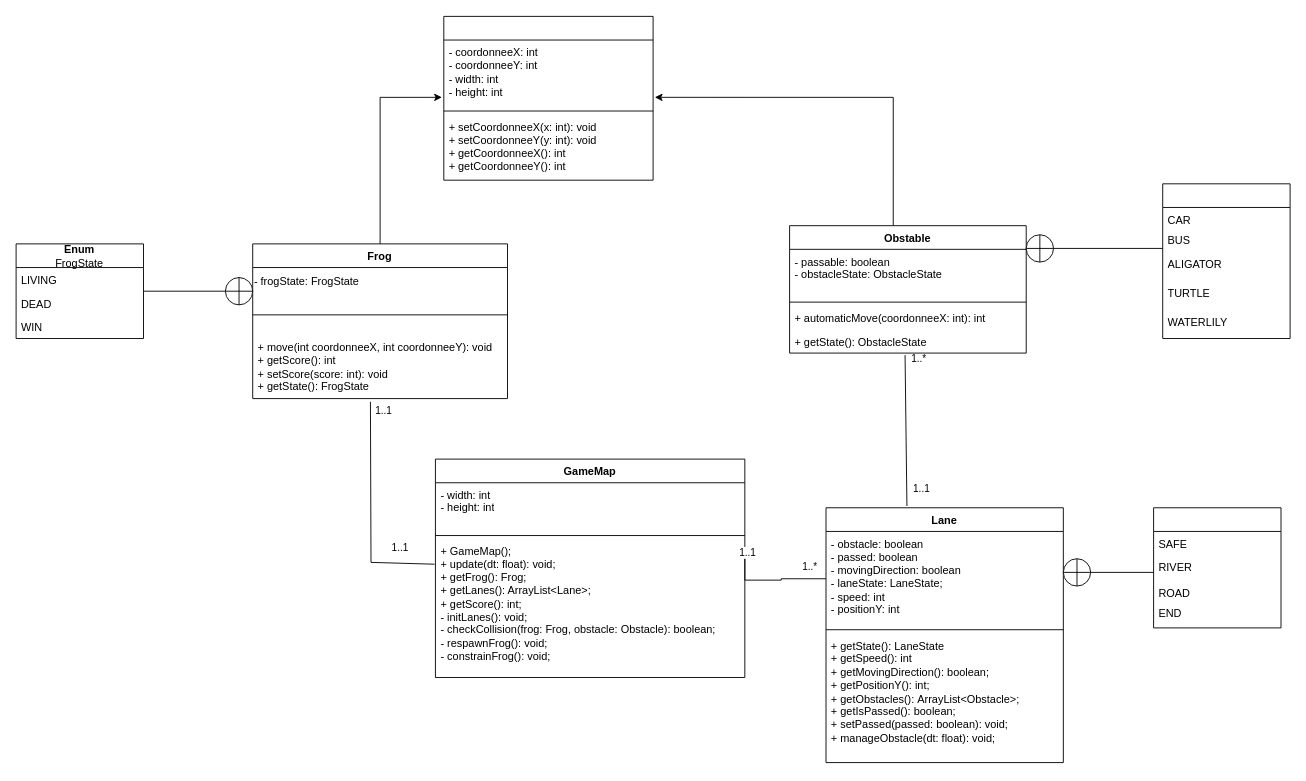
The diagram is 1306 pixels wide and 781 high, and some of its shapes have lost their labels. Here are the shapes that lost their labels. From the top down, the box of each, then its label:
(443, 15, 653, 180): ABSTRACT: Entity
(1162, 183, 1290, 339): Enum ObstacleState
(1153, 507, 1281, 628): Enum LaneState
